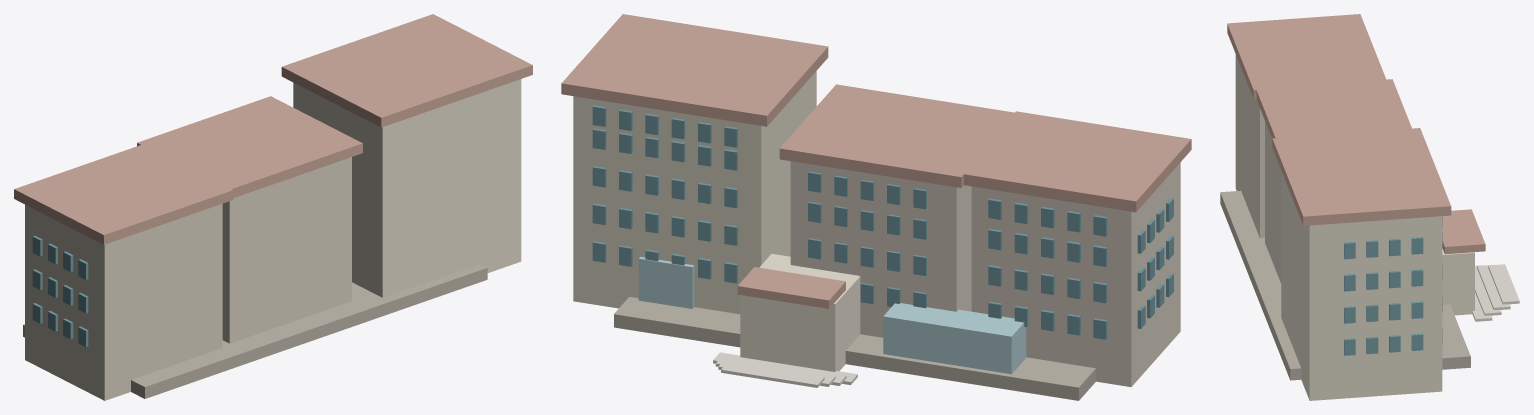
The model's file is seongbin-overview.glb.
The picture shows the model from 3 angles, left to right: view 1: azimuth 30°, elevation 25°; view 2: azimuth 150°, elevation 25°; view 3: azimuth 270°, elevation 25°; orthographic projection. The views are drawn at different scales.
Size of the model in its own units: 38.36 by 14.76 by 21.29.
